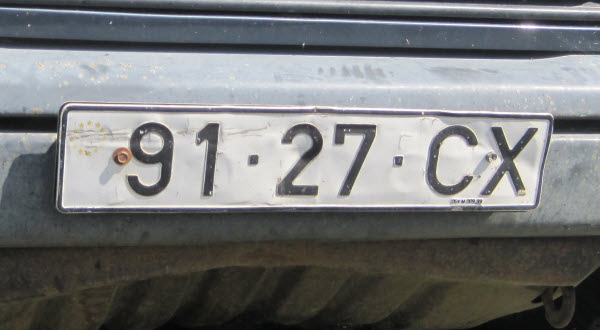license_plate: (54, 103, 552, 213)
